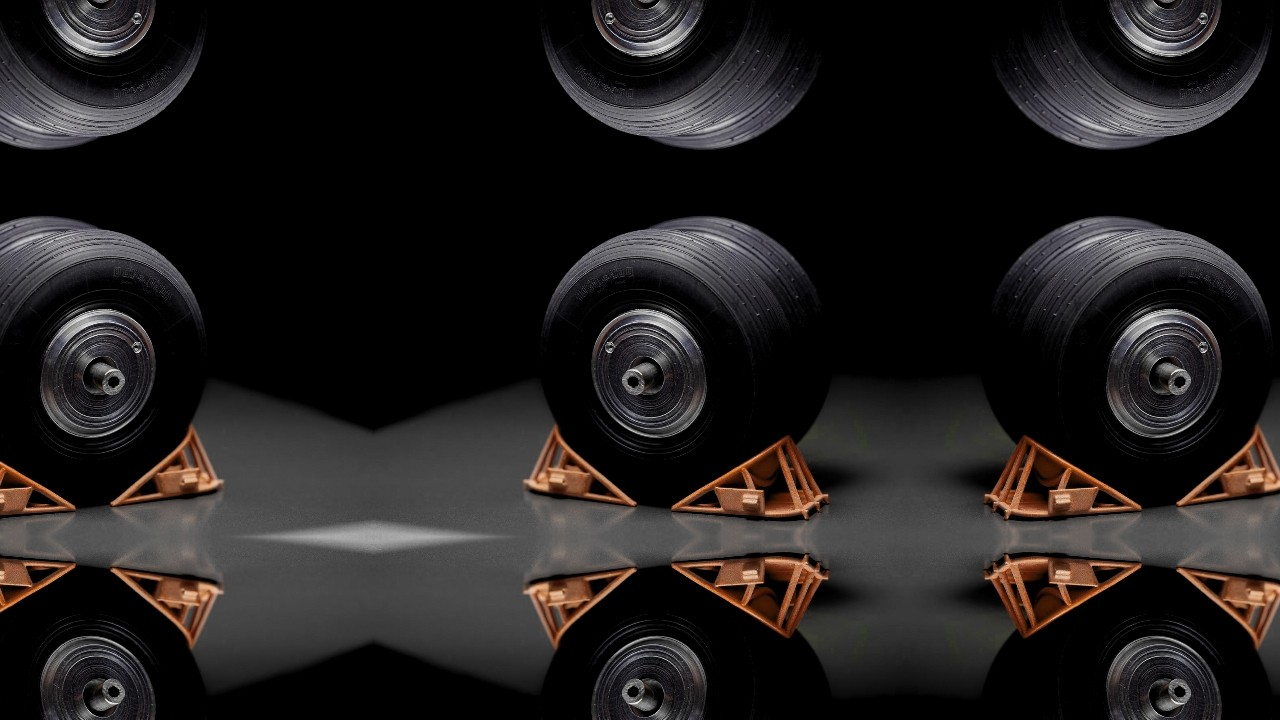chock: (671, 433, 829, 521), (985, 433, 1143, 521), (671, 553, 829, 641), (985, 553, 1143, 641), (106, 423, 224, 508), (522, 423, 640, 508), (106, 566, 224, 651), (522, 566, 640, 651), (1173, 423, 1280, 508), (1173, 566, 1280, 651), (0, 433, 76, 521), (0, 553, 76, 641)
wheel: (538, 226, 800, 512), (1014, 226, 1275, 512), (0, 226, 208, 512), (621, 215, 833, 487), (981, 215, 1193, 487), (538, 562, 800, 720), (1014, 562, 1275, 720), (538, 0, 800, 140), (1014, 0, 1275, 140), (0, 215, 126, 487), (0, 562, 208, 720), (621, 0, 833, 150), (981, 0, 1193, 150), (0, 0, 208, 140), (621, 587, 833, 720), (981, 587, 1193, 720), (0, 0, 126, 150), (0, 587, 126, 720)
